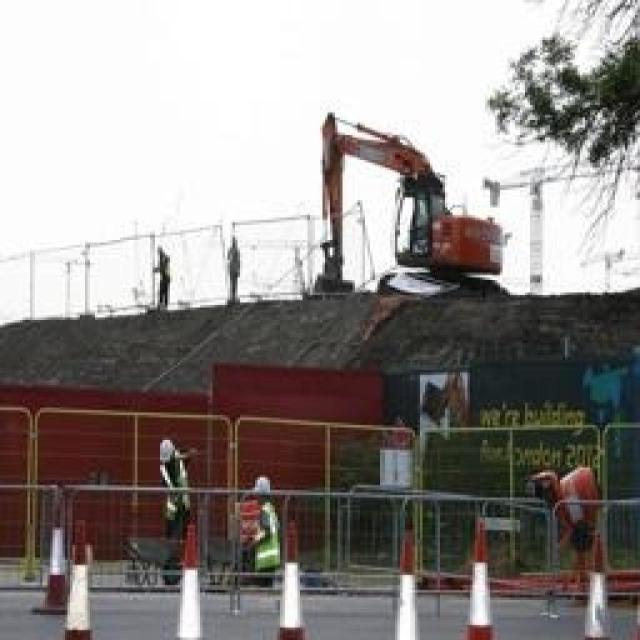Helmet: (521, 459, 565, 512), (238, 471, 288, 516), (150, 423, 185, 485)
Safety Vest: (560, 459, 614, 548), (244, 500, 292, 590), (150, 460, 205, 529)
